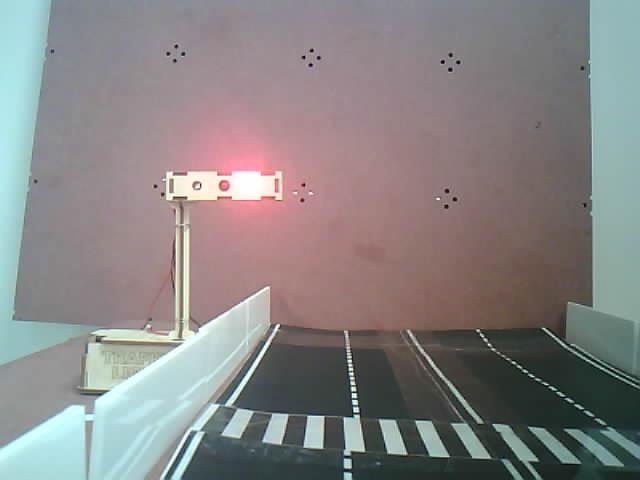crosswalk: (198, 403, 640, 468)
red: (152, 153, 299, 297)
